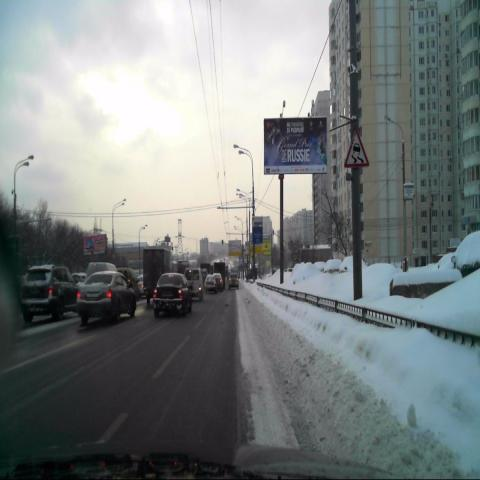1_15: (344, 129, 369, 167)
